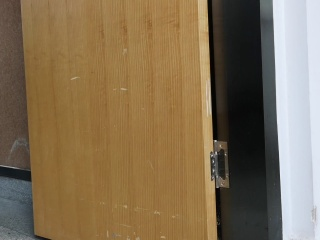room: (19, 2, 285, 240)
